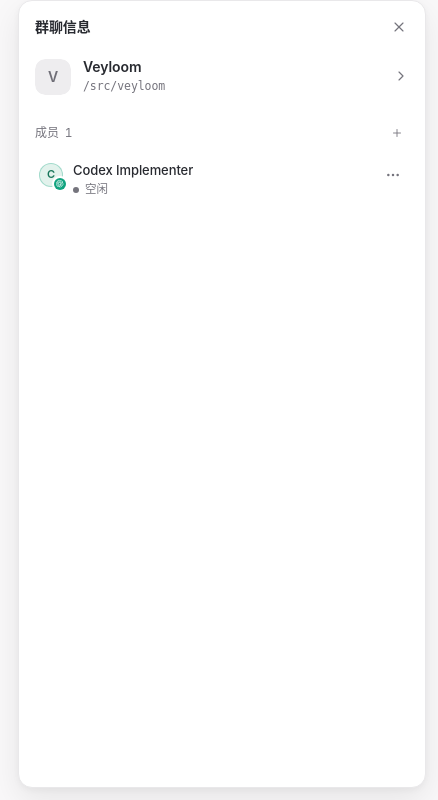
Scenario: MembersPanel › switches a member off from its menu
Click the button named "更多".
click(393, 175)  # box [377,159,409,191]
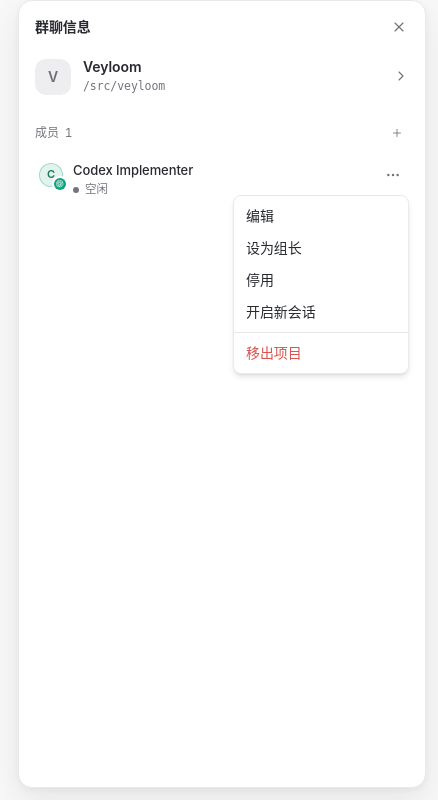
Click the menu item "停用".
click(260, 280)  # box [246,271,274,288]
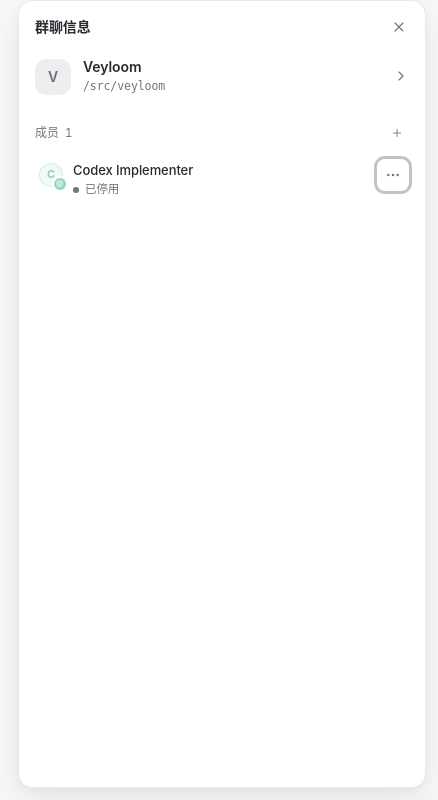
Expected: the text "已停用" is shown, [85,181,119,198]
